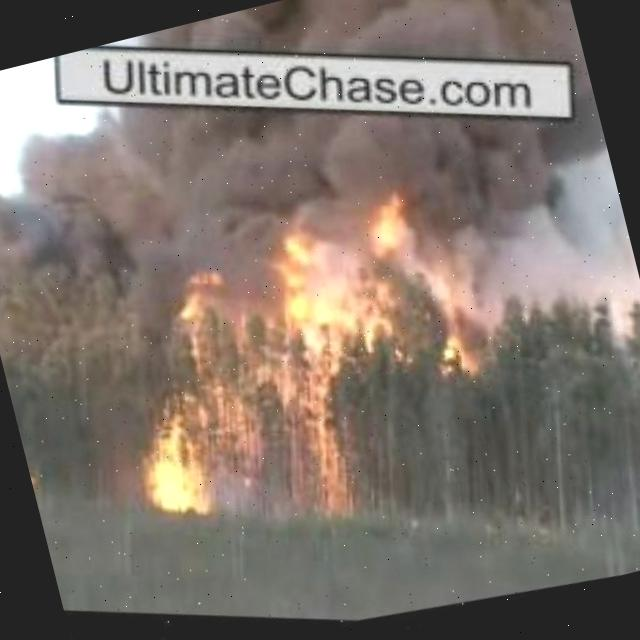fire: (73, 176, 411, 576), (330, 143, 541, 405), (27, 463, 49, 511)
